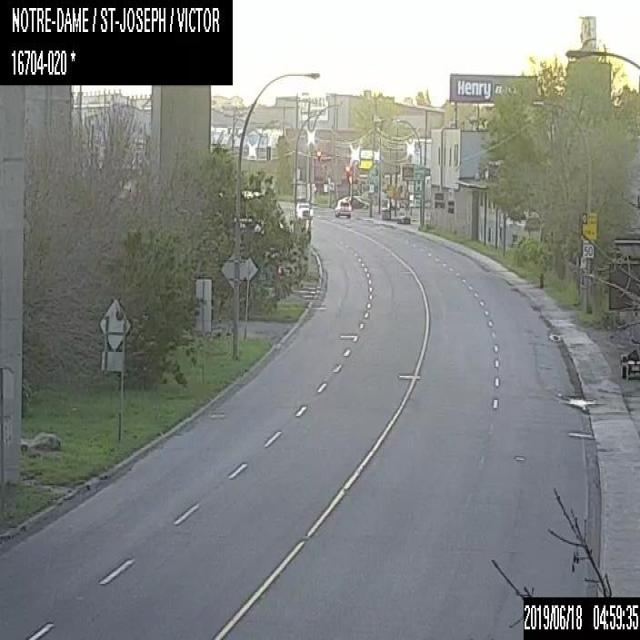construction: (606, 232, 639, 380)
vehicle: (296, 201, 312, 219), (334, 199, 350, 216)
